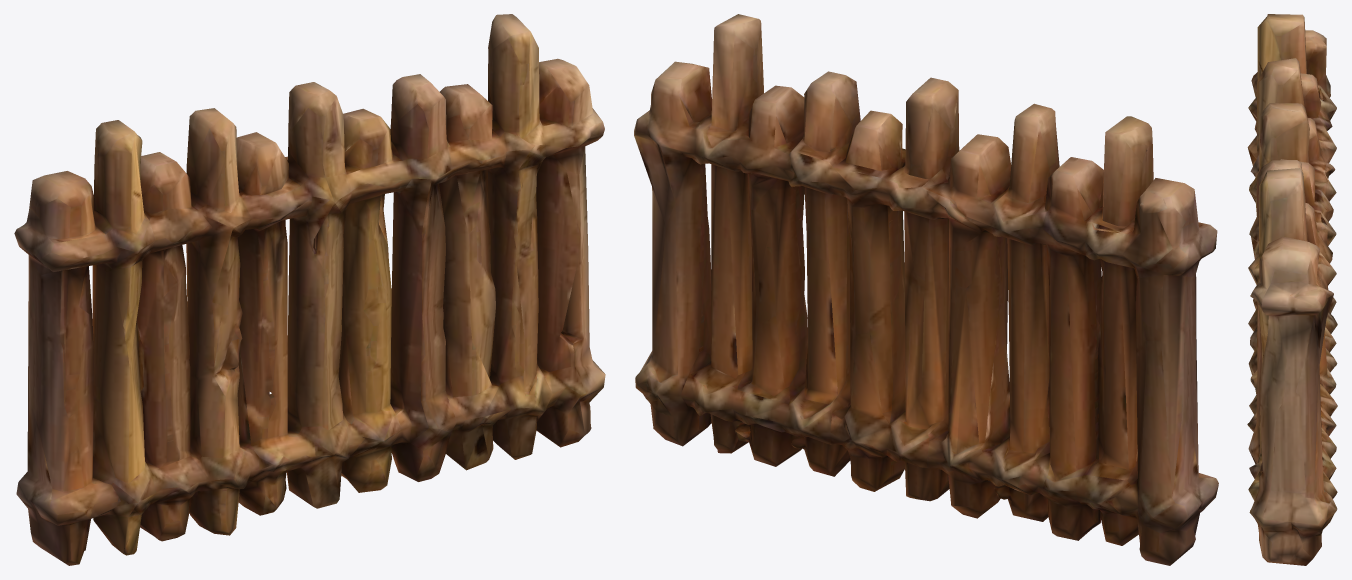
File: logwall.glb
3 views of the same model, side by side, from view 1: azimuth 30°, elevation 25°; view 2: azimuth 150°, elevation 25°; view 3: azimuth 270°, elevation 25° (orthographic). The views are drawn at different scales.
Parts seen in each view (by area): view 1: tripo_node_08307177; view 2: tripo_node_08307177; view 3: tripo_node_08307177.
Part boxes in pixels (bbox=[...]): tripo_node_08307177: bbox=[14, 14, 605, 565]; tripo_node_08307177: bbox=[634, 14, 1218, 565]; tripo_node_08307177: bbox=[1247, 14, 1337, 565].
Size of the model in its own units: 99.89 by 74.07 by 16.26.
Materials: 1 (1 with a texture image).
